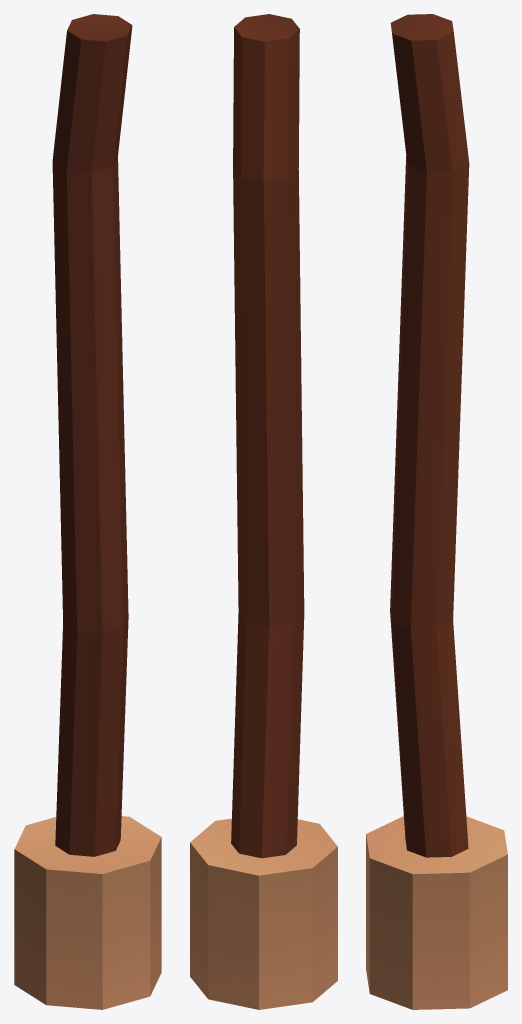
Rendered from Garden_Pole_Wood.fbx.
3 renders of one model, left to right at view 1: azimuth 30°, elevation 25°; view 2: azimuth 150°, elevation 25°; view 3: azimuth 270°, elevation 25°, orthographic.
Visible parts, largest first — view 1: Cube.163; view 2: Cube.163; view 3: Cube.163.
Part boxes in pixels (left/top/right/bottom): Cube.163: left=14, top=14, right=161, bottom=1009; Cube.163: left=190, top=14, right=337, bottom=1009; Cube.163: left=366, top=14, right=507, bottom=1009.
Size of the model in its own units: 26 by 193 by 26.
